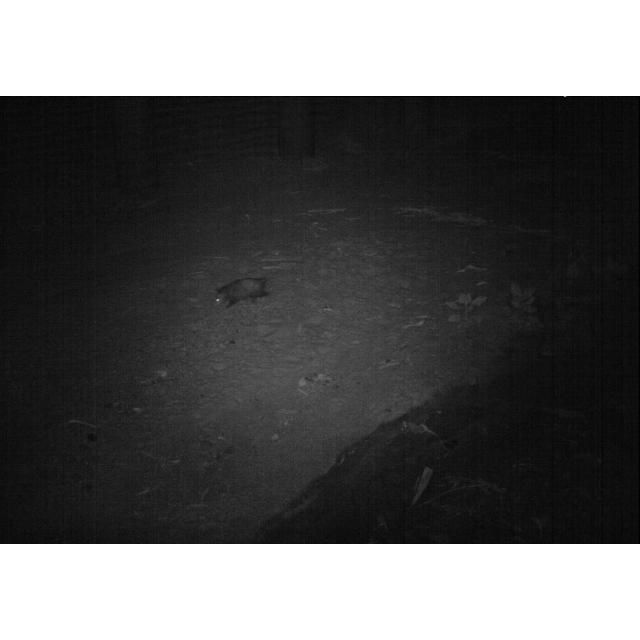animals: (215, 274, 263, 310)
